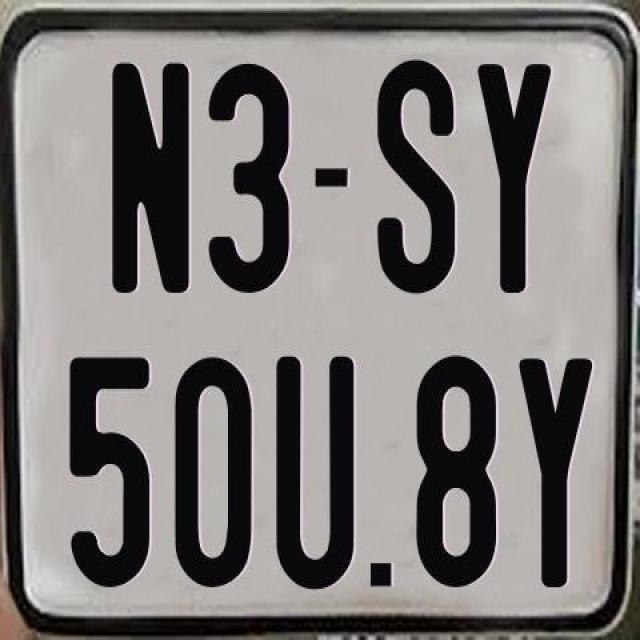0: (173, 352, 252, 590)
3: (208, 59, 295, 291)
5: (68, 354, 156, 588)
8: (416, 354, 500, 590)
N: (108, 60, 188, 298)
S: (377, 59, 463, 299)
U: (273, 354, 355, 596)
Y: (477, 61, 559, 296), (514, 355, 594, 587)
